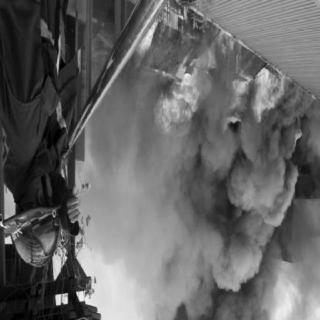Fire: (136, 9, 318, 159)
Smoke: (82, 134, 310, 313)
